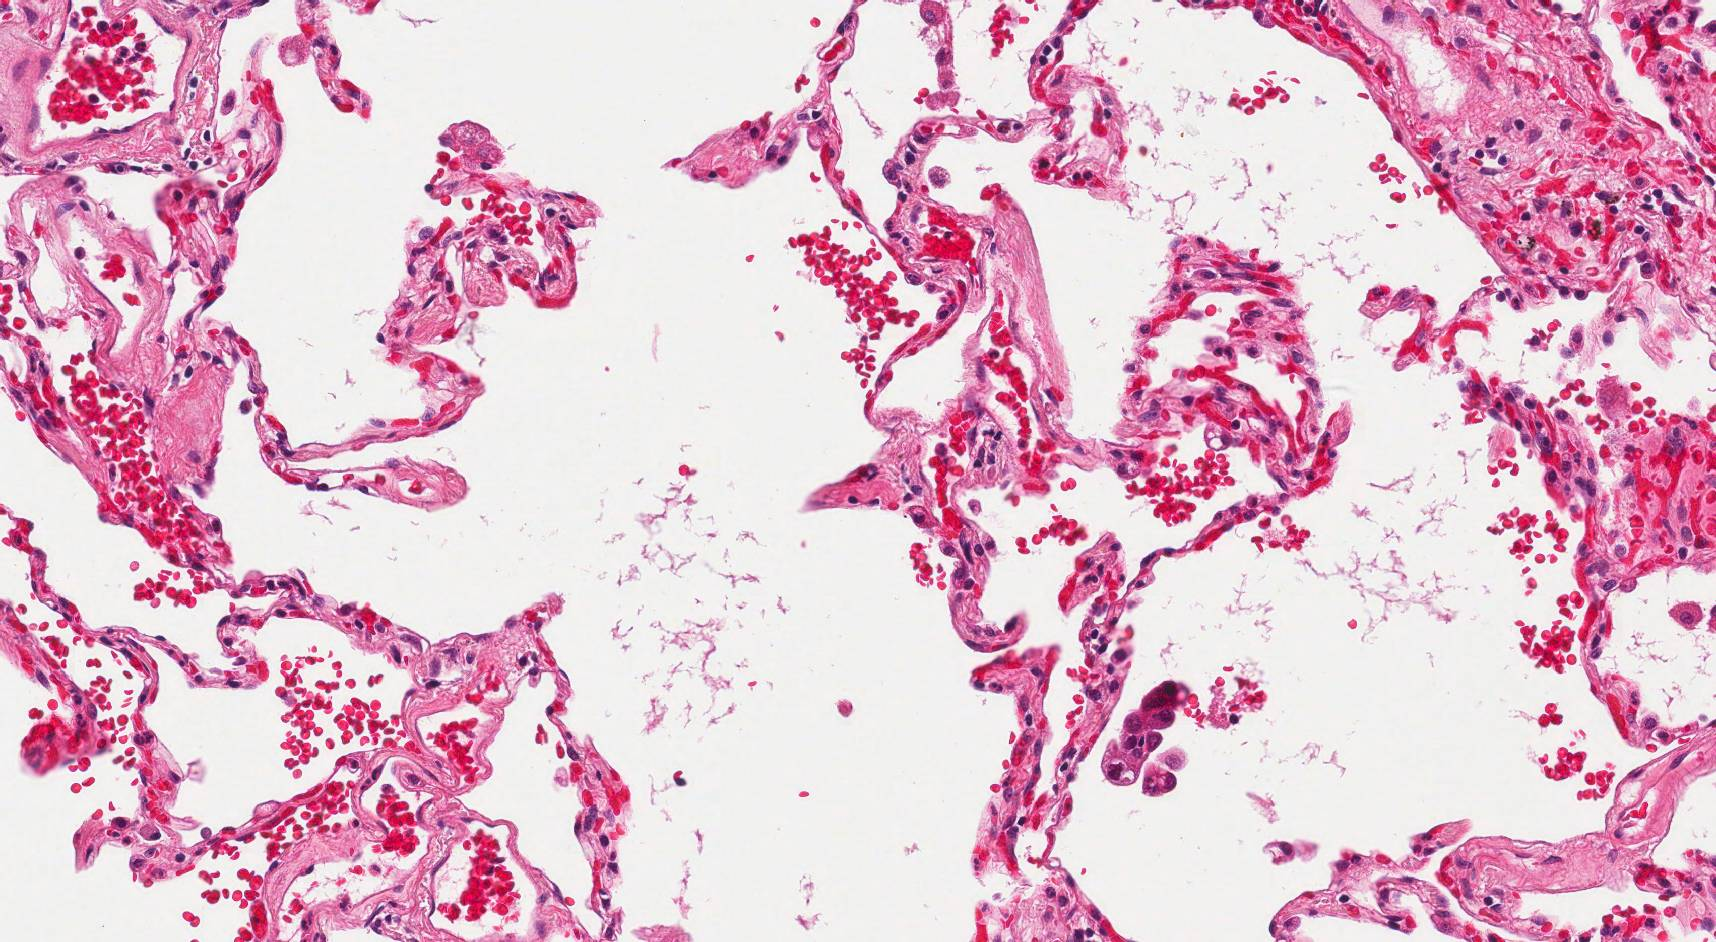stas: (1098, 679, 1189, 796)
